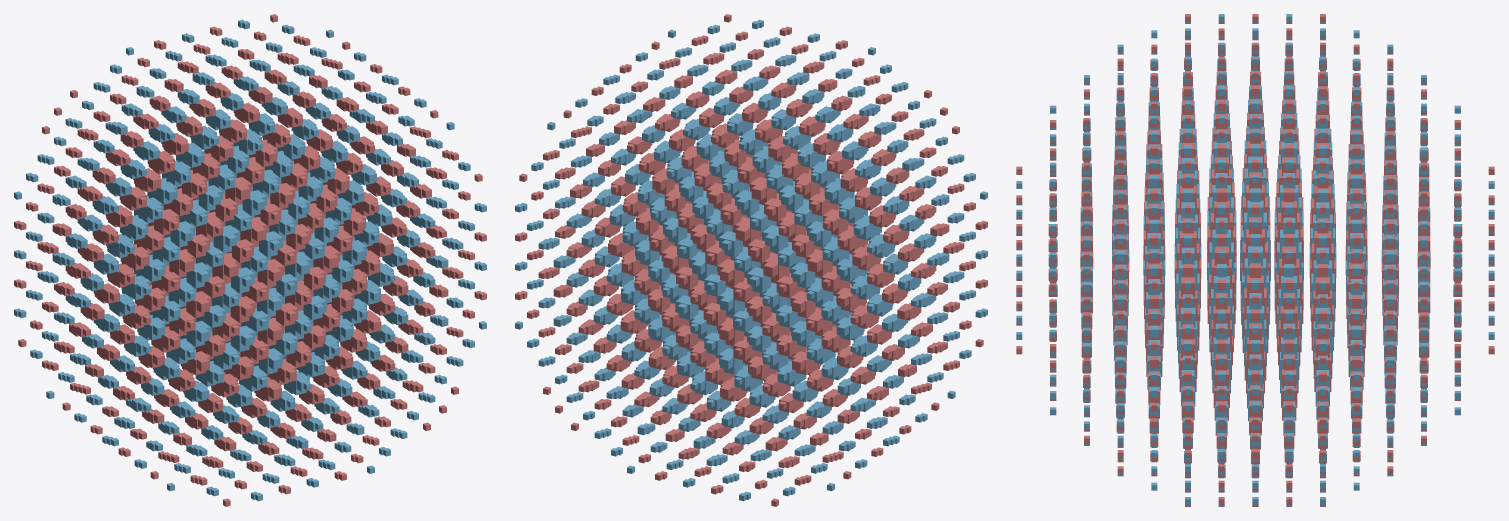
Rendered from explorable-lattice.glb.
3 views of the same model, side by side, from view 1: azimuth 30°, elevation 25°; view 2: azimuth 150°, elevation 25°; view 3: azimuth 270°, elevation 25° (orthographic). The views are drawn at different scales.
Parts seen in each view (by area): view 1: world; view 2: world; view 3: world.
Part boxes in pixels (x1,y1,x2,y2): world: [14, 14, 486, 506]; world: [515, 14, 987, 506]; world: [1016, 14, 1494, 506].
Size of the model in its own units: 14.18 by 14.18 by 14.18.
